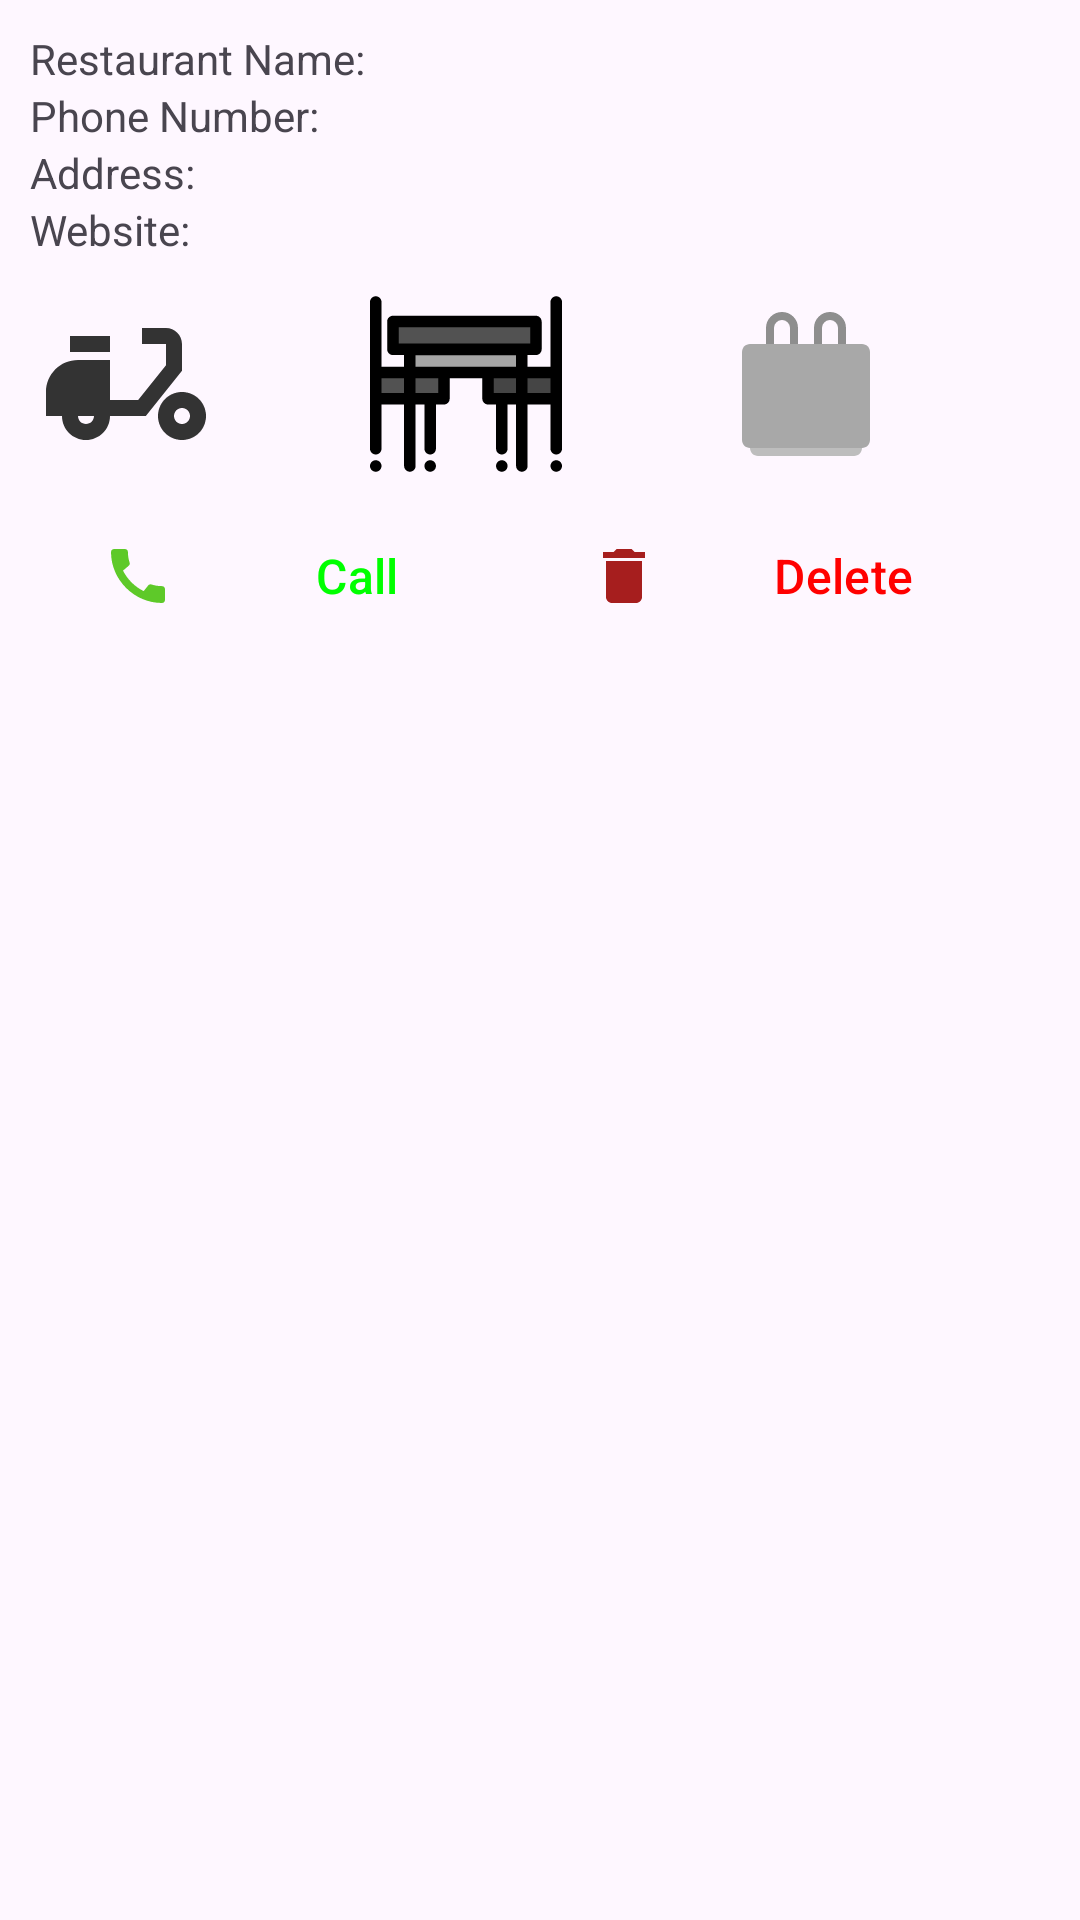

Icons on this 1080w x 1920h Android screen, each with its box as (x1, y1, x2, y2):
Delivery Orders: (46, 328, 206, 440)
Table Orders: (370, 296, 562, 472)
Take Away Orders: (742, 312, 870, 456)
